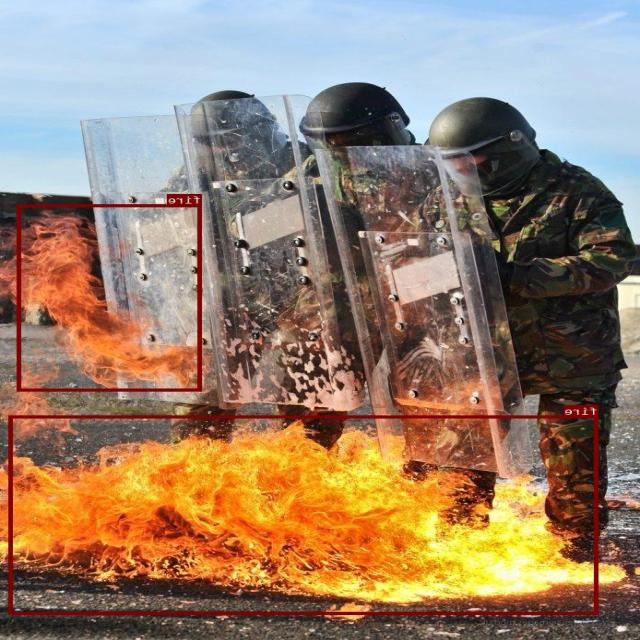fire: (10, 415, 599, 614), (18, 204, 203, 391)
